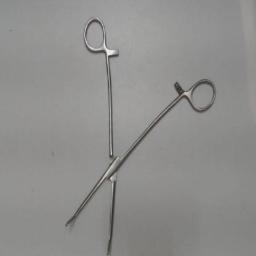Lahey Forceps: (61, 16, 219, 256)
